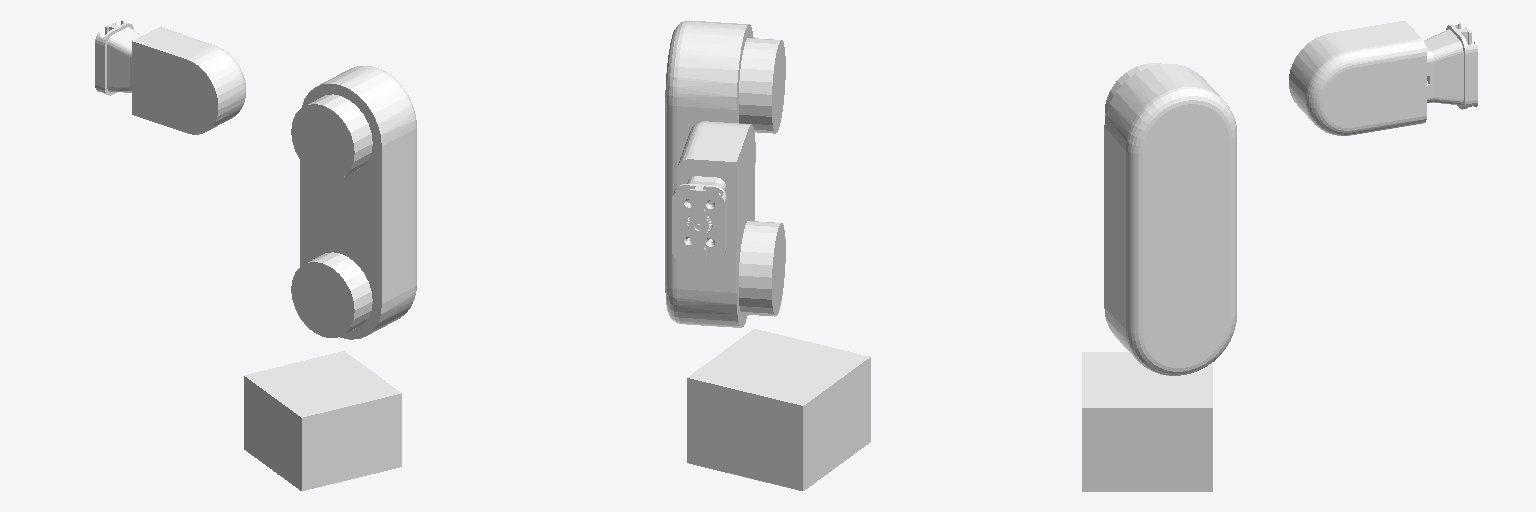
URDF robot description (final_urdf):

<!-- This URDF was automatically created by SolidWorks to URDF Exporter! Originally created by [author] ([email redacted]) 
     Commit Version: 1.6.0-4-g7f85cfe  Build Version: 1.6.7995.38578
     For more information, please see http://wiki.ros.org/sw_urdf_exporter <?xml version="1.0" encoding="utf-8"?>
-->
<robot
  name="final_urdf">
<link name="base_footprint">
    <visual>
        <origin xyz="0 0 0" rpy="0 0 0" />
        <geometry>
            <box size="0.001 0.001 0.001" />
        </geometry>
    </visual>
</link>

<joint name="base_footprint_joint" type="fixed">
    <origin xyz="0 0 0.001" rpy="0 0 0" />
    <parent link="base_footprint"/>
    <child link="base_link" />
</joint>
  <link
    name="base_link">
    <inertial>
      <origin
        xyz="3.81639164622205E-17 -1.61011833905913E-17 0.0425864553314121"
        rpy="0 0 0" />
      <mass
        value="0.17697" />
      <inertia
        ixx="0.000321433614733429"
        ixy="4.3153672238535E-20"
        ixz="2.2393158451896E-20"
        iyy="0.000321433614733429"
        iyz="2.40627983153739E-20"
        izz="0.0004650095" />
    </inertial>
    <visual>
      <origin
        xyz="0 0 0"
        rpy="0 0 0" />
      <geometry>
        <mesh
          filename="package://robot_crafters/meshes/visual/base_link.STL" />
      </geometry>
      <material
        name="">
        <color
          rgba="1 1 1 1" />
      </material>
    </visual>
    <collision>
      <origin
        xyz="0 0 0"
        rpy="0 0 0" />
      <geometry>
        <mesh
          filename="package://robot_crafters/meshes/visual/base_link.STL" />
      </geometry>
    </collision>
  </link>
  <link
    name="link_1">
    <inertial>
      <origin
        xyz="-0.00726865780665834 -0.00285369668637606 0.04360556108188"
        rpy="0 0 0" />
      <mass
        value="0.263221784038489" />
      <inertia
        ixx="0.000329949358084906"
        ixy="5.6661779601761E-06"
        ixz="4.25119071598307E-05"
        iyy="0.000317741568795907"
        iyz="1.66903153878296E-05"
        izz="0.000139259576366162" />
    </inertial>
    <visual>
      <origin
        xyz="0 0 0"
        rpy="0 0 0" />
      <geometry>
        <mesh
          filename="package://robot_crafters/meshes/visual/link_1.STL" />
      </geometry>
      <material
        name="">
        <color
          rgba="1 1 1 1" />
      </material>
    </visual>
    <collision>
      <origin
        xyz="0 0 0"
        rpy="0 0 0" />
      <geometry>
        <mesh
          filename="package://robot_crafters/meshes/visual/link_1.STL" />
      </geometry>
    </collision>
  </link>
  <joint
    name="joint_1"
    type="revolute">
    <origin
      xyz="0 0 0.07"
      rpy="0 0 0" />
    <parent
      link="base_link" />
    <child
      link="link_1" />
    <axis
      xyz="0 0 1" />
    <limit
      lower="0"
      upper="3.142"
      effort="300"
      velocity="3" />
    <dynamics
      damping="0.1"
      friction="0.1" />
  </joint>
  <link
    name="link_2">
    <inertial>
      <origin
        xyz="-1.73472347597681E-17 -0.075 0.0212098007792094"
        rpy="0 0 0" />
      <mass
        value="1.29806509506951" />
      <inertia
        ixx="0.0062657114944435"
        ixy="2.60402502736436E-20"
        ixz="-4.33680868994202E-19"
        iyy="0.00128035454417741"
        iyz="2.1749115590979E-18"
        izz="0.00645446352685866" />
    </inertial>
    <visual>
      <origin
        xyz="0 0 0"
        rpy="0 0 0" />
      <geometry>
        <mesh
          filename="package://robot_crafters/meshes/visual/link_2.STL" />
      </geometry>
      <material
        name="">
        <color
          rgba="1 1 1 1" />
      </material>
    </visual>
    <collision>
      <origin
        xyz="0 0 0"
        rpy="0 0 0" />
      <geometry>
        <mesh
          filename="package://robot_crafters/meshes/visual/link_2.STL" />
      </geometry>
    </collision>
  </link>
  <joint
    name="joint_2"
    type="revolute">
    <origin
      xyz="0.023271 0.0091362 0.08"
      rpy="-1.5708 0 -1.1967" />
    <parent
      link="link_1" />
    <child
      link="link_2" />
    <axis
      xyz="0 0 -1" />
    <limit
      lower="-1.57"
      upper="1.57"
      effort="200"
      velocity="3" />
    <dynamics
      damping="0.1"
      friction="0.1" />
  </joint>
  <link
    name="link_3">
    <inertial>
      <origin
        xyz="0.0749999999999999 0 0.0221538622967558"
        rpy="0 0 0" />
      <mass
        value="0.647520566305543" />
      <inertia
        ixx="0.000347861869047757"
        ixy="1.8914856026565E-18"
        ixz="-4.59430670590733E-18"
        iyy="0.00239720093473655"
        iyz="5.46224865873482E-20"
        izz="0.00253209414181771" />
    </inertial>
    <visual>
      <origin
        xyz="0 0 0"
        rpy="0 0 0" />
      <geometry>
        <mesh
          filename="package://robot_crafters/meshes/visual/link_3.STL" />
      </geometry>
      <material
        name="">
        <color
          rgba="1 1 1 1" />
      </material>
    </visual>
    <collision>
      <origin
        xyz="0 0 0"
        rpy="0 0 0" />
      <geometry>
        <mesh
          filename="package://robot_crafters/meshes/visual/link_3.STL" />
      </geometry>
    </collision>
  </link>
  <joint
    name="joint3"
    type="revolute">
    <origin
      xyz="0 -0.15 -0.025"
      rpy="3.1416 0 3.1416" />
    <parent
      link="link_2" />
    <child
      link="link_3" />
    <axis
      xyz="0 0 1" />
    <limit
      lower="-3.142"
      upper="0.57"
      effort="300"
      velocity="3" />
    <dynamics
      damping="0.1"
      friction="0.1" />
  </joint>
  <link
    name="link_4">
    <inertial>
      <origin
        xyz="-0.0260016749419192 2.30871791572218E-05 0.0221909941892141"
        rpy="0 0 0" />
      <mass
        value="0.323800131384377" />
      <inertia
        ixx="0.000161676260853587"
        ixy="8.16941158238677E-08"
        ixz="9.61299308696256E-07"
        iyy="0.000234727268101653"
        iyz="-1.82867431992292E-09"
        izz="0.000296381959116414" />
    </inertial>
    <visual>
      <origin
        xyz="0 0 0"
        rpy="0 0 0" />
      <geometry>
        <mesh
          filename="package://robot_crafters/meshes/visual/link_4.STL" />
      </geometry>
      <material
        name="">
        <color
          rgba="1 1 1 1" />
      </material>
    </visual>
    <collision>
      <origin
        xyz="0 0 0"
        rpy="0 0 0" />
      <geometry>
        <mesh
          filename="package://robot_crafters/meshes/visual/link_4.STL" />
      </geometry>
    </collision>
  </link>
  <joint
    name="joint_4"
    type="revolute">
    <origin
      xyz="0.15 0 0"
      rpy="-3.1416 0 3.1416" />
    <parent
      link="link_3" />
    <child
      link="link_4" />
    <axis
      xyz="0 0 1" />
    <limit
      lower="-1.57"
      upper="1.57"
      effort="200"
      velocity="3" />
    <dynamics
      damping="0.1"
      friction="0.1" />
  </joint>
  <link
    name="finger_1">
    <inertial>
      <origin
        xyz="0.0050659568614265 0.00722328240335451 0.000708156431126539"
        rpy="0 1.57 1.57" />
      <mass
        value="0.00693344911968842" />
      <inertia
        ixx="1.72645267243455E-06"
        ixy="-3.69793749005936E-07"
        ixz="-1.20676938526531E-07"
        iyy="9.82629029862248E-07"
        iyz="-4.07649907710131E-07"
        izz="1.84374824309078E-06" />
    </inertial>
    <visual>
      <origin
        xyz="0 0 0"
        rpy="3.142 0 0" />
      <geometry>
        <mesh
          filename="package://robot_crafters/meshes/visual/finger_1.STL" />
      </geometry>
      <material
        name="">
        <color
          rgba="0.266666666666667 0.588235294117647 0.282352941176471 1" />
      </material>
    </visual>
    <collision>
      <origin
        xyz="0 0 0"
        rpy="0 0 0" />
      <geometry>
        <mesh
          filename="package://robot_crafters/meshes/visual/finger_1.STL" />
      </geometry>
    </collision>
  </link>
  <joint
    name="finger_joint_1"
    type="prismatic">
    <origin
      xyz="-0.12314 -0.022919 0.023221"
      rpy="1.5708 -1.5708 0" />
    <parent
      link="link_4" />
    <child
      link="finger_1" />
    <axis
      xyz="0 0 -1" />
    <limit
      lower="0"
      upper="0.02"
      effort="100"
      velocity="3" />
    <dynamics
      damping="0.1"
      friction="0.1" />
  </joint>
  <link
    name="finger_2">
    <inertial>
      <origin
        xyz="0.00506595899372983 0.00722329429647373 0.000708146948421196"
        rpy="0 0 0" />
      <mass
        value="0.00693344898001996" />
      <inertia
        ixx="1.72645059250549E-06"
        ixy="-3.69792218804243E-07"
        ixz="-1.20677399390042E-07"
        iyy="9.8262968709959E-07"
        iyz="-4.0765000036755E-07"
        izz="1.84374485064073E-06" />
    </inertial>
    <visual>
      <origin
        xyz="0 0 0"
        rpy="0 0 0" />
      <geometry>
        <mesh
          filename="package://robot_crafters/meshes/visual/finger_2.STL" />
      </geometry>
      <material
        name="">
        <color
          rgba="0.266666666666667 0.588235294117647 0.282352941176471 1" />
      </material>
    </visual>
    <collision>
      <origin
        xyz="0 0 0"
        rpy="0 0 0" />
      <geometry>
        <mesh
          filename="package://robot_crafters/meshes/visual/finger_2.STL" />
      </geometry>
    </collision>
  </link>
  <joint
    name="finger_joint_2"
    type="prismatic">
    <origin
      xyz="-0.12314 0.022928 0.021779"
      rpy="1.5708 1.5708 0" />
    <parent
      link="link_4" />
    <child
      link="finger_2" />
    <axis
      xyz="0 0 1" />
    <limit
      lower="0"
      upper="0.02"
      effort="100"
      velocity="3" />
    <dynamics
      damping="0.1"
      friction="0.1" />
  </joint>
</robot>

--- Facts derived from the render (not from the file) ---
The picture shows the robot from 3 angles, left to right: view 1: azimuth 30°, elevation 25°; view 2: azimuth 150°, elevation 25°; view 3: azimuth 270°, elevation 25°; orthographic projection.
Robot: final_urdf — 8 links, 7 joints (4 revolute, 2 prismatic, 1 fixed); root link base_footprint; default pose: all joints at 0.
Visible links, largest first — view 1: link_2, base_link, link_4; view 2: base_link, link_2, link_4; view 3: link_2, base_link, link_4.
Boxes of the visible links, <box> form: link_2: <box>291,66,416,339</box>; base_link: <box>244,351,401,490</box>; link_4: <box>95,21,245,134</box>; base_link: <box>687,329,870,490</box>; link_2: <box>665,20,785,327</box>; link_4: <box>672,121,755,263</box>; link_2: <box>1104,63,1236,375</box>; base_link: <box>1082,352,1212,491</box>; link_4: <box>1289,21,1477,135</box>.
Size in the robot's own frame: 0.1781 by 0.301 by 0.3465 metres.
3 mesh visuals loaded from 7 distinct referenced files (3 binary STL); not drawn: 4 (file found but could not be loaded).